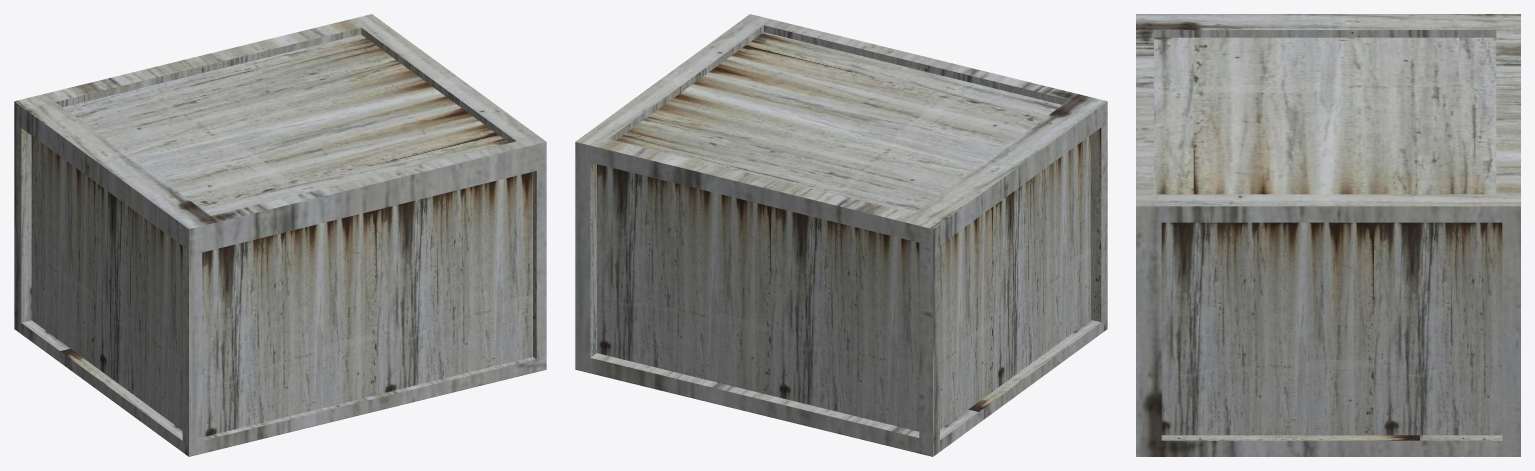
The model's file is Tank.fbx.
The picture shows the model from 3 angles, left to right: view 1: azimuth 30°, elevation 25°; view 2: azimuth 150°, elevation 25°; view 3: azimuth 270°, elevation 25°; orthographic projection. The views are drawn at different scales.
Visible parts, largest first — view 1: Model; view 2: Model; view 3: Model.
Part boxes in pixels (x1,y1,x2,y2): Model: [14, 14, 546, 456]; Model: [575, 14, 1107, 456]; Model: [1136, 14, 1520, 456].
Size of the model in its own units: 57.62 by 35.06 by 48.75.
